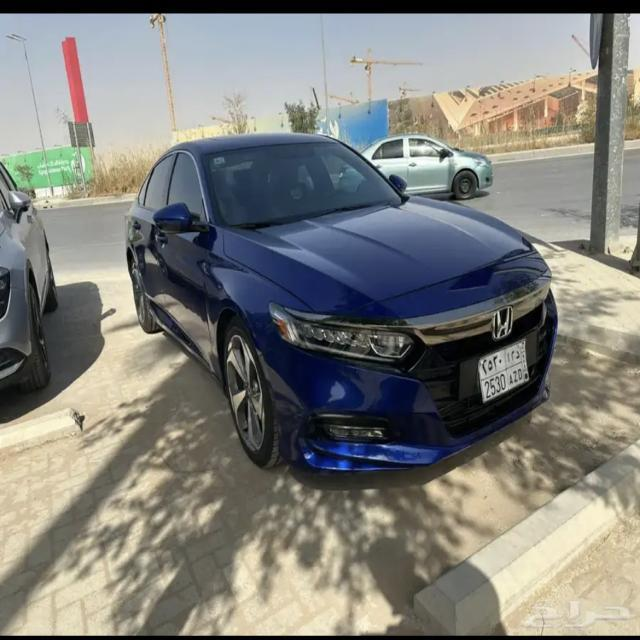license_plate: (478, 339, 529, 401)
